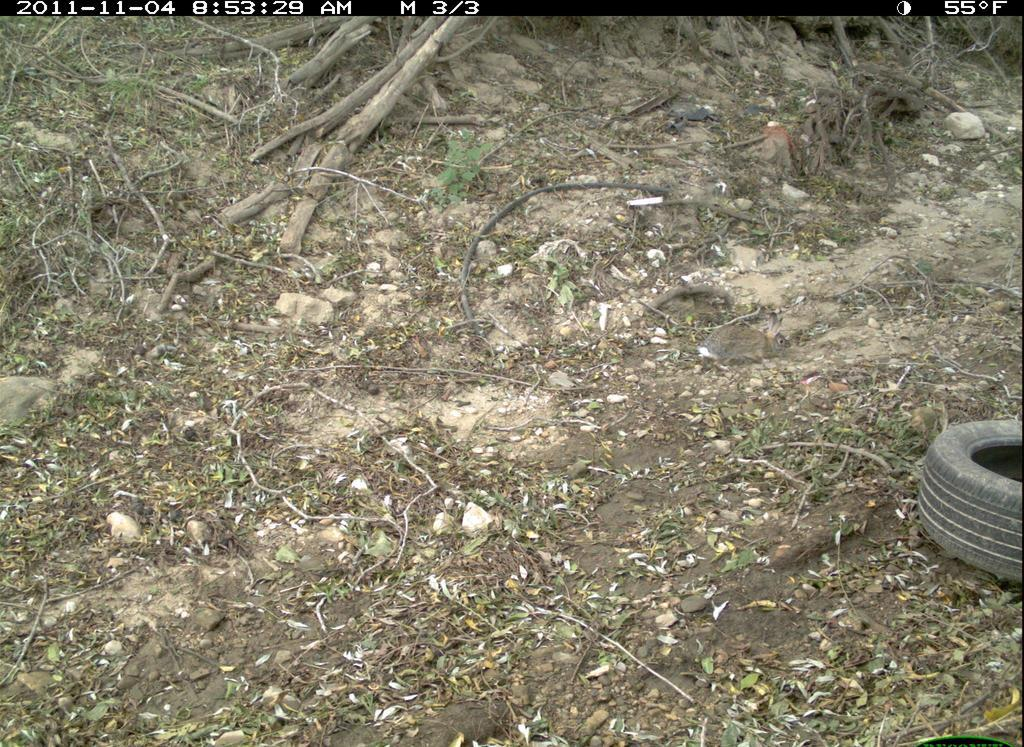rabbit: (692, 307, 796, 378)
